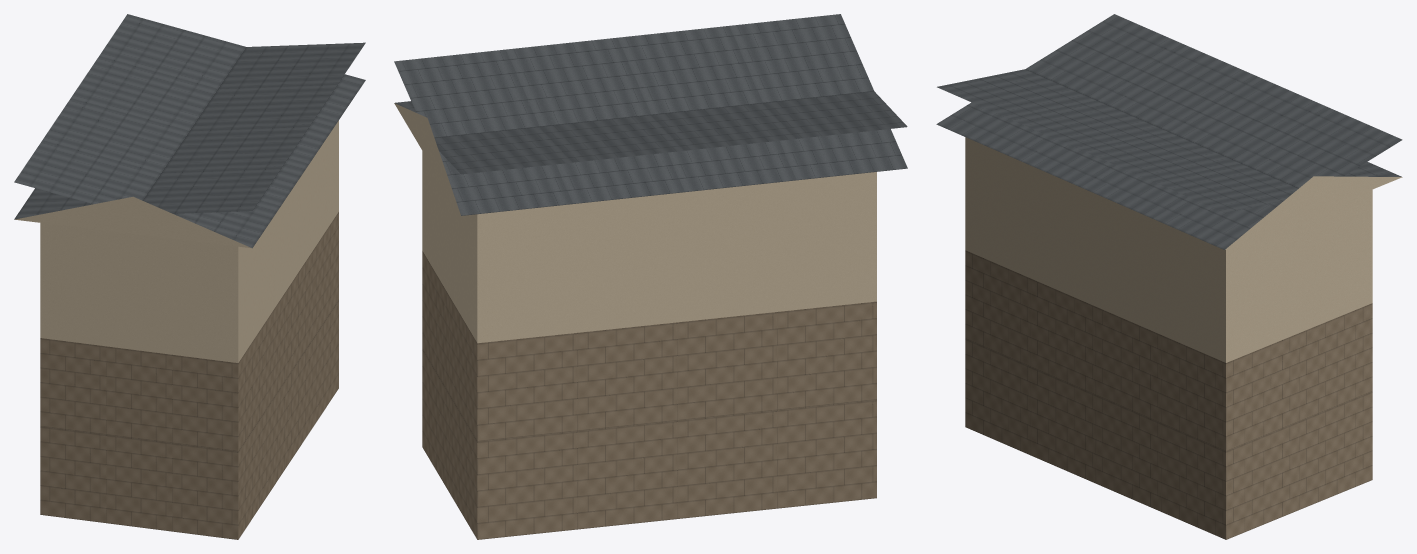
The model's file is bld_c2_17_472.gltf.
3 views of the same model, side by side, from view 1: azimuth 30°, elevation 25°; view 2: azimuth 150°, elevation 25°; view 3: azimuth 270°, elevation 25° (orthographic). The views are drawn at different scales.
Visible parts, largest first — view 1: bld_c2_17_472; view 2: bld_c2_17_472; view 3: bld_c2_17_472.
Part boxes in pixels (bbox=[...]): bld_c2_17_472: bbox=[14, 14, 365, 539]; bld_c2_17_472: bbox=[394, 14, 907, 539]; bld_c2_17_472: bbox=[936, 14, 1402, 539].
Size of the model in its own units: 11.41 by 9.1 by 11.32.
Materials: 4 (4 with a texture image).
